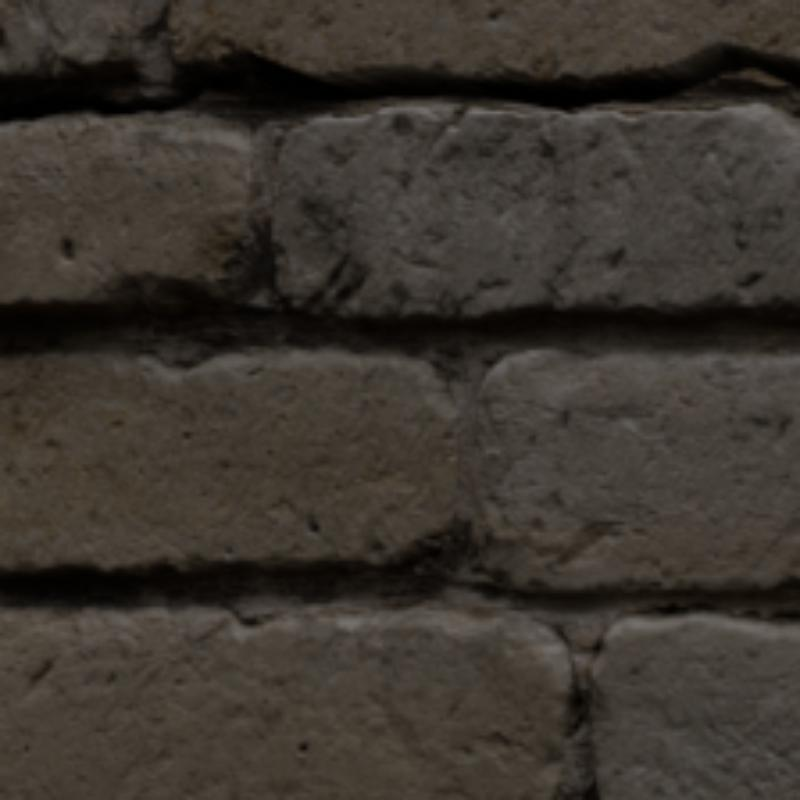pothole: (0, 43, 796, 118)
